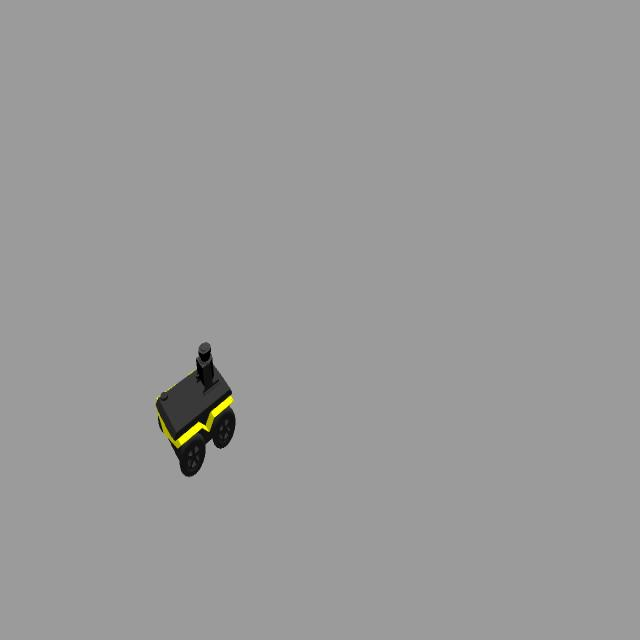jackal: (154, 340, 237, 479)
